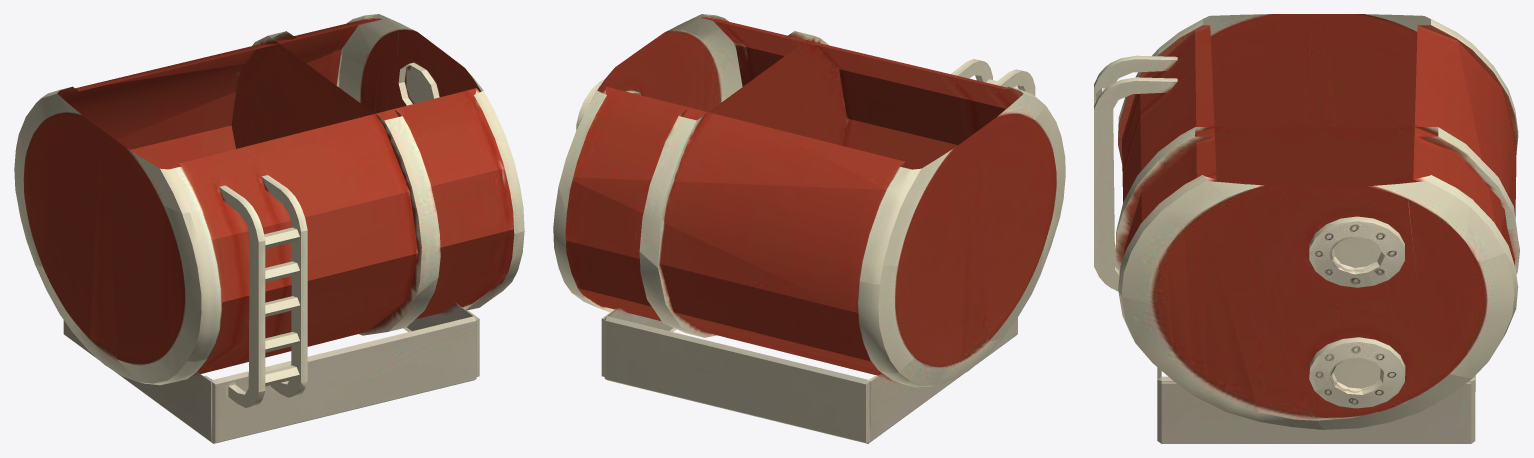
The model's file is covers_citerne_tank.glb.
3 views of the same model, side by side, from view 1: azimuth 30°, elevation 25°; view 2: azimuth 150°, elevation 25°; view 3: azimuth 270°, elevation 25° (orthographic). The views are drawn at different scales.
Parts seen in each view (by area): view 1: wl_tank_horizontal; view 2: wl_tank_horizontal; view 3: wl_tank_horizontal.
Part boxes in pixels (bbox=[...]): wl_tank_horizontal: bbox=[14, 14, 524, 443]; wl_tank_horizontal: bbox=[553, 14, 1065, 443]; wl_tank_horizontal: bbox=[1094, 14, 1519, 443].
Bounding box in the file's own units: 3.96 × 2.8 × 3.88.
1 material, 1 textured.
